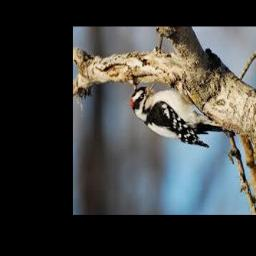Woodpecker: (131, 81, 229, 148)
